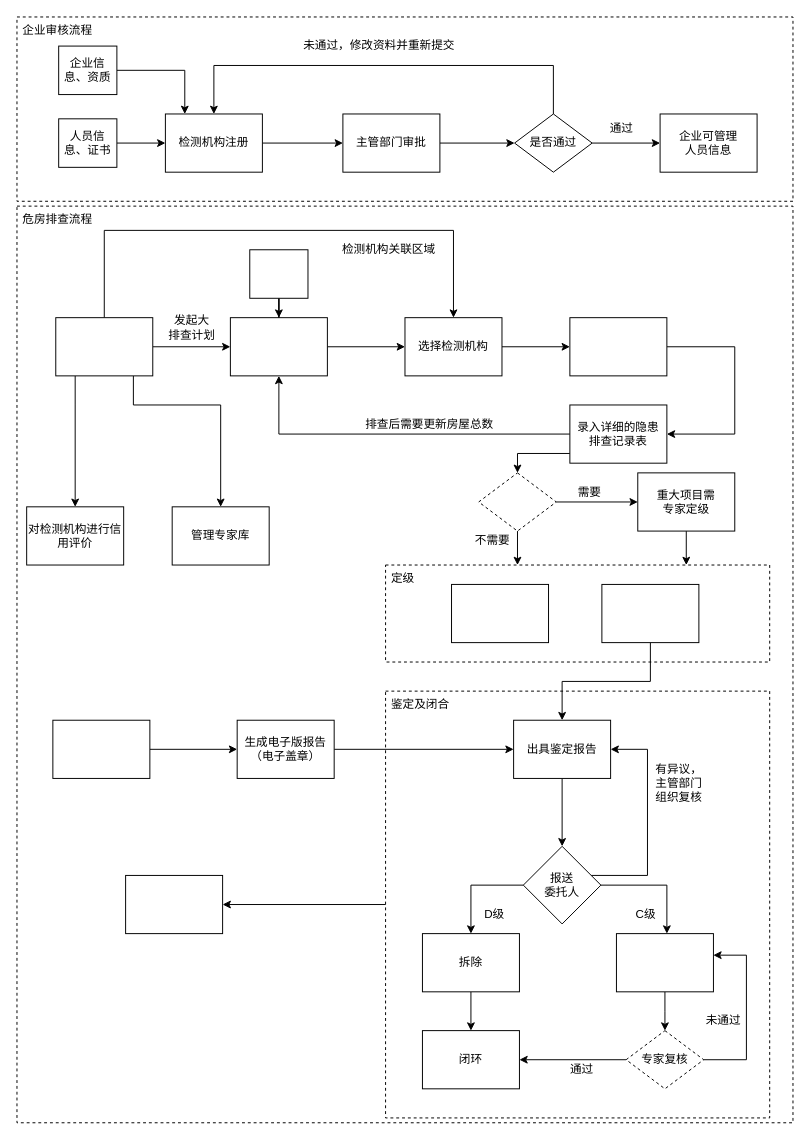
The diagram is 810 pixels wide and 1143 high, and some of its shapes have lost their labels. Here are the shapes that lost their labels. From the top down, the centre of each, then its label:
the point at 278,273: 街道上报房屋数量
the point at 104,346: 主管部门
the point at 278,346: 根据街道选定 房屋总数
the point at 618,346: 检测人员使用APP进行现场排查
the point at 517,501: 是否需要 专家定级
the point at 500,613: A、B两级 只做记录
the point at 650,613: C、D两级房屋
the point at 101,748: 检测参加人， 报告编写人， 报告审核人， 报告批准人，
the point at 174,904: 按照要求上报 排查汇总表
the point at 664,962: 加固
